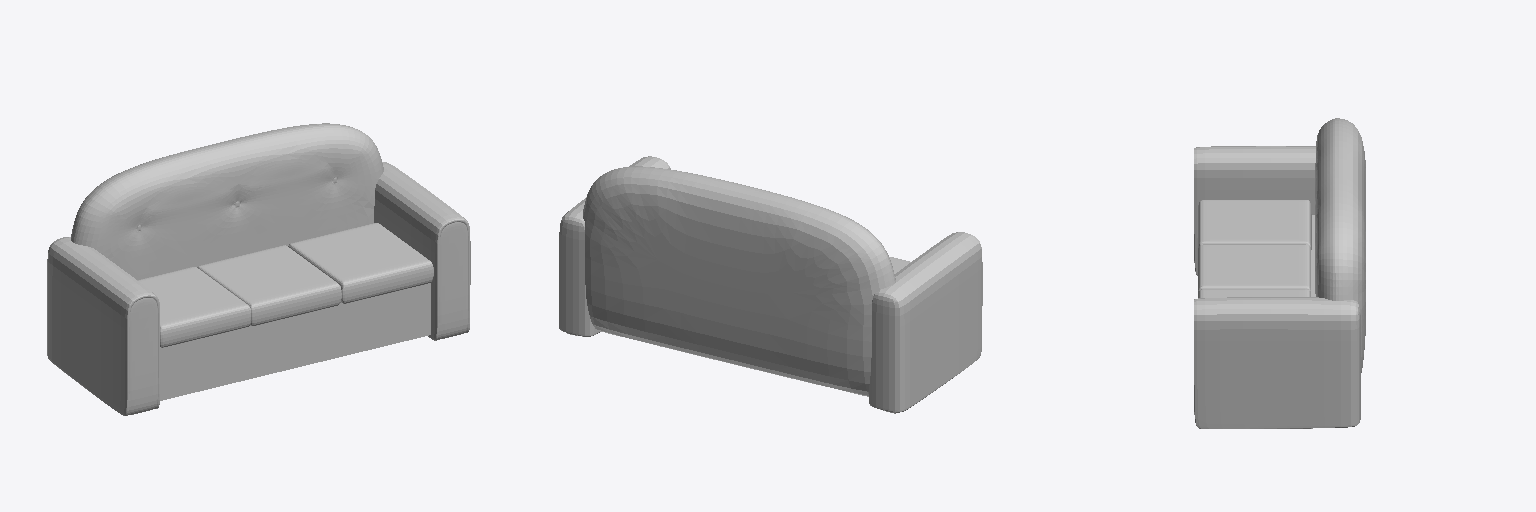
File: TV_room_Couch.obj
The picture shows the model from 3 angles: view 1: azimuth 30°, elevation 25°; view 2: azimuth 150°, elevation 25°; view 3: azimuth 270°, elevation 25°; orthographic projection.
Visible parts, largest first — view 1: Couch_Back_Couch_main_update, ChairArmLt_ChairArm.003, couch_main, ChairArmRt_ChairArm.001, cushionRt_cushionRt.002, Mid_cushion_cushionRt.001, cushionLt_cushionRt; view 2: Couch_Back_Couch_main_update, ChairArmLt_ChairArm.003, ChairArmRt_ChairArm.001; view 3: ChairArmRt_ChairArm.001, Couch_Back_Couch_main_update, ChairArmLt_ChairArm.003, Mid_cushion_cushionRt.001, cushionLt_cushionRt, cushionRt_cushionRt.002.
Boxes of the visible parts, box(x1,y1,x2,y2) form: Couch_Back_Couch_main_update: box(71, 123, 383, 279); ChairArmLt_ChairArm.003: box(47, 237, 159, 415); couch_main: box(160, 283, 430, 400); ChairArmRt_ChairArm.001: box(374, 162, 470, 340); cushionRt_cushionRt.002: box(288, 223, 433, 303); Mid_cushion_cushionRt.001: box(197, 245, 341, 325); cushionLt_cushionRt: box(137, 267, 250, 347); Couch_Back_Couch_main_update: box(583, 166, 895, 396); ChairArmLt_ChairArm.003: box(869, 232, 982, 412); ChairArmRt_ChairArm.001: box(559, 156, 670, 336); ChairArmRt_ChairArm.001: box(1194, 297, 1360, 428); Couch_Back_Couch_main_update: box(1315, 118, 1365, 372); ChairArmLt_ChairArm.003: box(1194, 146, 1315, 275); Mid_cushion_cushionRt.001: box(1198, 244, 1310, 293); cushionLt_cushionRt: box(1198, 200, 1311, 249); cushionRt_cushionRt.002: box(1198, 289, 1310, 297).
Size of the model in its own units: 60.32 by 30.32 by 26.05.